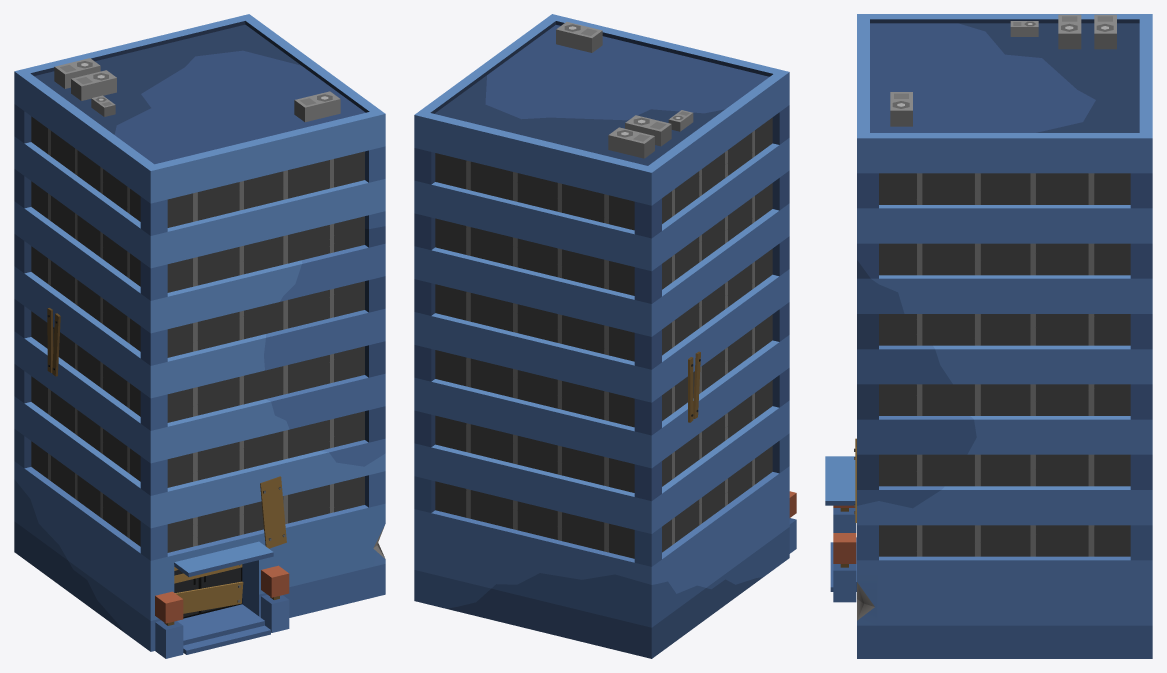
The model's file is SA_Bld_OfficeBlue_03.gltf.
3 renders of one model, left to right at view 1: azimuth 30°, elevation 25°; view 2: azimuth 150°, elevation 25°; view 3: azimuth 270°, elevation 25°, orthographic. The views are drawn at different scales.
Visible parts, largest first — view 1: SA_Bld_OfficeBlue_03; view 2: SA_Bld_OfficeBlue_03; view 3: SA_Bld_OfficeBlue_03.
Part boxes in pixels (x1,y1,x2,y2): SA_Bld_OfficeBlue_03: (14,14,385,658); SA_Bld_OfficeBlue_03: (414,14,796,658); SA_Bld_OfficeBlue_03: (825,14,1152,658).
Size of the model in its own units: 13.82 by 27.24 by 15.17.
1 material, 1 textured.
